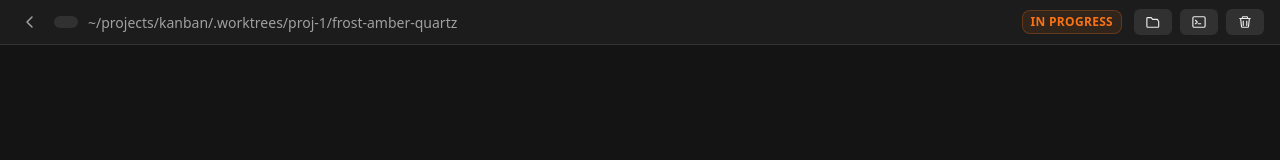
Test: TaskHeader path tooltip (mobile) › copies the full path to the clipboard from the tooltip button
Click the text "~/projects/kanban/.worktrees/proj-1/frost-amber-quartz": point(273, 22) [88,12,457,32]
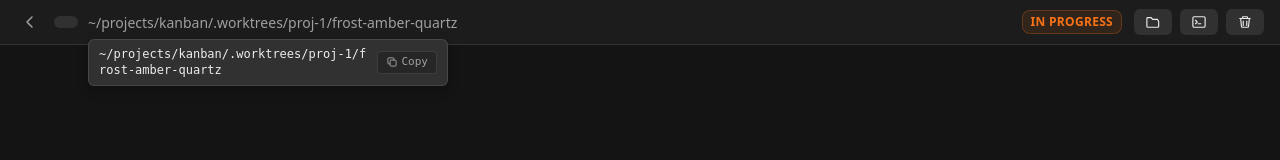
Check: the button "Copy" is shown
Click the button "Copy": point(407, 62) [376,51,437,74]
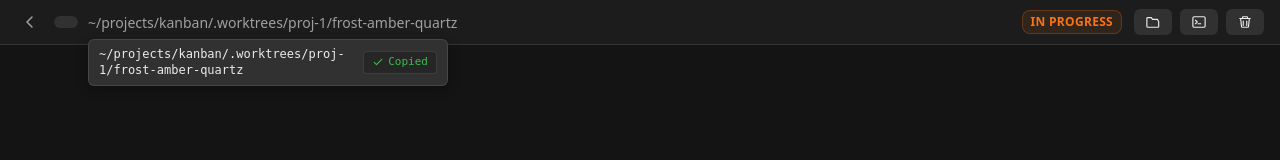
Check: the tooltip is shown, box [88,38,448,86]
Check: the button "Copied" is shown, box [363,51,437,74]
